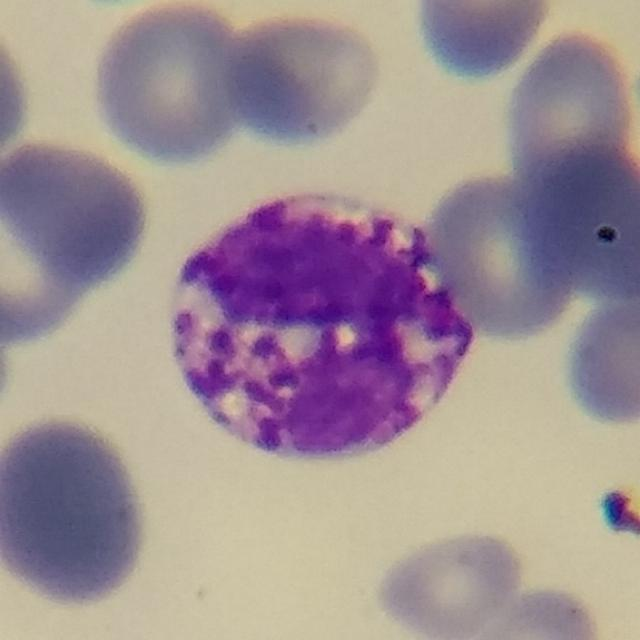Basophil: (150, 168, 490, 485)
Platelets: (595, 484, 639, 540)
RBC: (0, 131, 158, 351), (0, 406, 159, 614), (418, 167, 586, 343), (86, 0, 256, 168), (506, 120, 638, 317), (218, 5, 389, 152), (498, 31, 638, 210), (371, 525, 528, 640), (407, 0, 560, 85), (560, 275, 640, 431), (457, 583, 609, 640), (0, 7, 36, 179)
